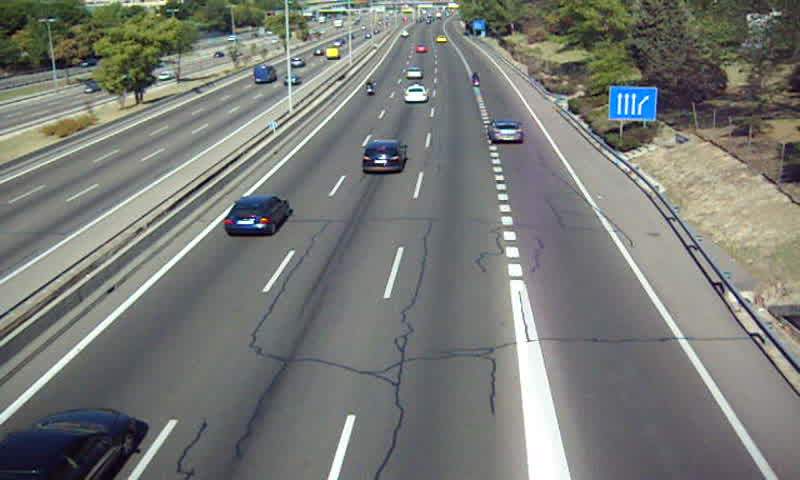car: (1, 409, 136, 480), (222, 195, 290, 237), (362, 139, 406, 173), (487, 118, 525, 144), (403, 84, 428, 105), (405, 65, 422, 79)
motorcycle: (365, 77, 376, 99), (470, 72, 482, 88)
